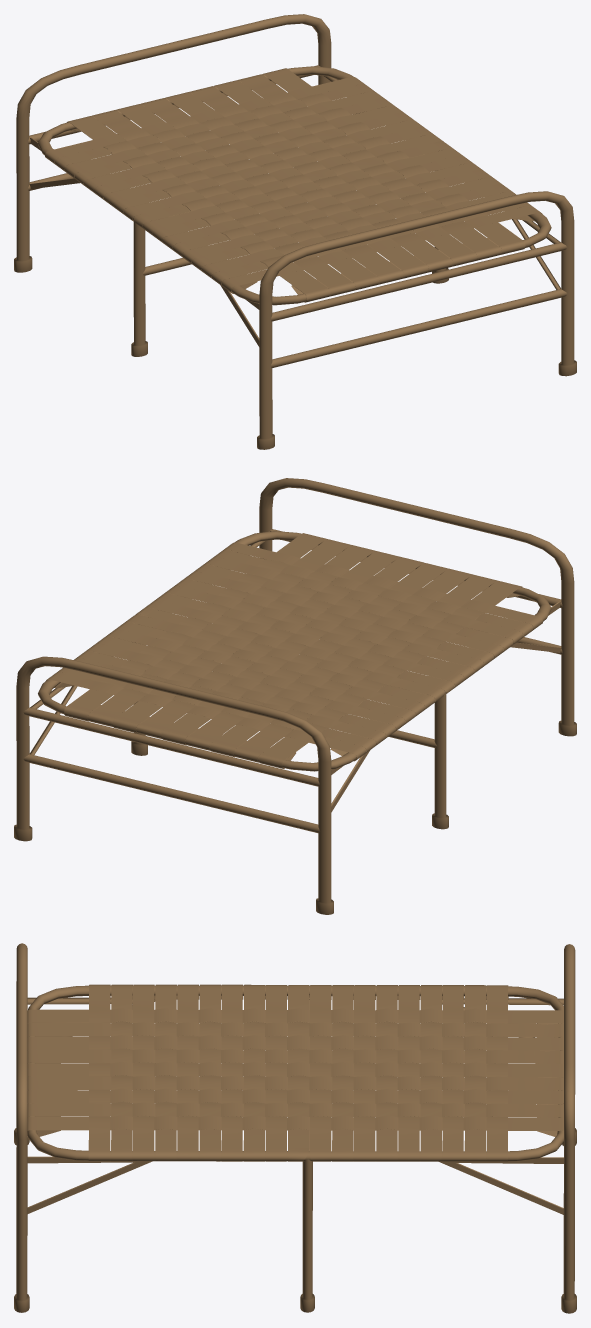
The model's file is feather-bed.glb.
3 renders of one model, top to bottom at view 1: azimuth 30°, elevation 25°; view 2: azimuth 150°, elevation 25°; view 3: azimuth 270°, elevation 25°, orthographic. The views are drawn at different scales.
Visible parts, largest first — view 1: feather-bed; view 2: feather-bed; view 3: feather-bed.
Boxes of the visible parts, left/top/right/bottom form: feather-bed: left=14, top=14, right=576, bottom=449; feather-bed: left=14, top=478, right=576, bottom=914; feather-bed: left=14, top=943, right=576, bottom=1313.
Size of the model in its own units: 1.4 by 0.8 by 1.9.
